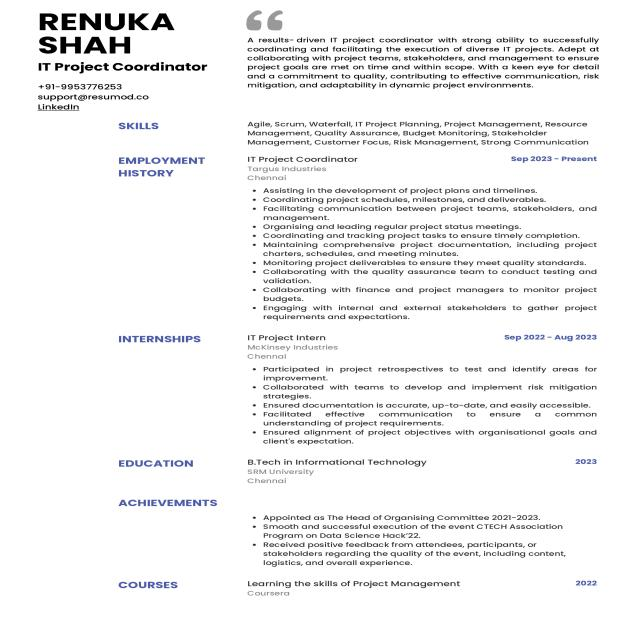contact: (33, 82, 174, 115)
education: (114, 457, 611, 494), (112, 578, 610, 600)
experience: (114, 154, 636, 322), (110, 330, 612, 450), (116, 497, 576, 568)
header: (30, 1, 225, 80)
skills: (109, 119, 604, 150)
summary: (244, 32, 605, 95)
